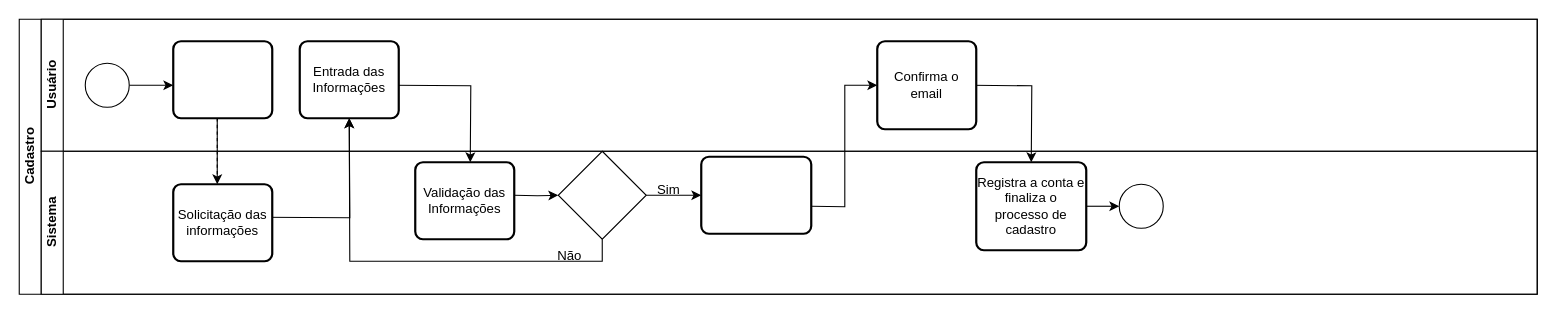
The diagram is 1557 pixels wide and 314 high, and some of its shapes have lost their labels. Here are the shapes that lost their labels. From the top down, the centre of each, then its label:
At point 222,79: "Solicitação do Cadastro".
At point 601,194: "São válidas?".
At point 756,194: "Envia Email de Confirmação".
At point 1140,205: "Fim".
